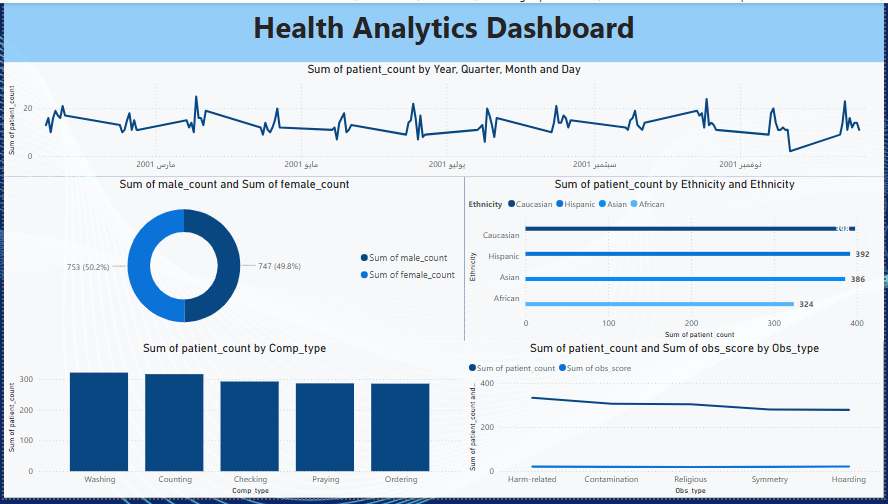

The dashboard page shown, as its layout file describes it:
{"tool":"powerbi","page":{"name":"Page 1","canvas":[1280,720],"ordinal":0},"visuals":[{"type":"lineChart","title":"Sum of patients by Year, Quarter, Month and Day","fields":{"Y":["Sum(num people mom.patient_count)"],"Category":["num people mom.mom.Variation.Date Hierarchy.Year","num people mom.mom.Variation.Date Hierarchy.Quarter","num people mom.mom.Variation.Date Hierarchy.Month","num people mom.mom.Variation.Date Hierarchy.Day"]},"box":[0,85.9,1280,166.7],"z":0},{"type":"textbox","box":[0,0,1280,85.9],"z":1},{"type":"donutChart","title":"Percentage of Male and Female Patients","fields":{"Y":["Sum(pct_gender.male_count)","Sum(pct_gender.female_count)"]},"box":[0,252.6,670.3,239.2],"z":2},{"type":"clusteredBarChart","title":"Sum of patients by Ethnicity ","fields":{"Category":["patient_Ethnicity.Ethnicity"],"Y":["Sum(patient_Ethnicity.patient_count)"],"Series":["patient_Ethnicity.Ethnicity"]},"box":[670.3,252.6,609.7,239.2],"z":3},{"type":"clusteredBarChart","title":"Sum of patients and Sum of Obsessions score by Compulsions type","fields":{"Category":["comp_type.Comp_type"],"Y":["Sum(comp_type.patient_count)","Sum(comp_type.Obs_score)"]},"box":[0,491.6,670.5,228.4],"z":4},{"type":"clusteredBarChart","title":"Sum of patients and Sum of obsessions score by Obs_type","fields":{"Category":["obs_score.Obs_type"],"Y":["Sum(obs_score.patient_count)","Sum(obs_score.obs_score)"]},"box":[670.5,491.6,609.5,228.4],"z":5}]}

Visuals, with their boxes in screenshot pixels (x1, y1, x2, y2), scaled from the page's 1280x720 canvas onto the 888x504 screenshot:
"Sum of patients by Year, Quarter, Month and Day" lineChart: x1=0 y1=60 x2=887 y2=177
textbox: x1=0 y1=0 x2=887 y2=60
"Percentage of Male and Female Patients" donutChart: x1=0 y1=177 x2=465 y2=344
"Sum of patients by Ethnicity " clusteredBarChart: x1=465 y1=177 x2=887 y2=344
"Sum of patients and Sum of Obsessions score by Compulsions type" clusteredBarChart: x1=0 y1=344 x2=465 y2=503
"Sum of patients and Sum of obsessions score by Obs_type" clusteredBarChart: x1=465 y1=344 x2=887 y2=503
